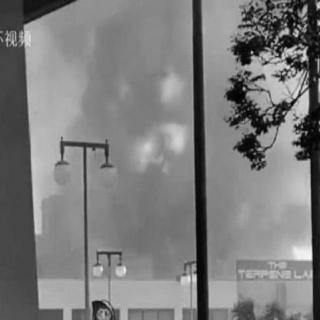Fire: (207, 193, 246, 283)
